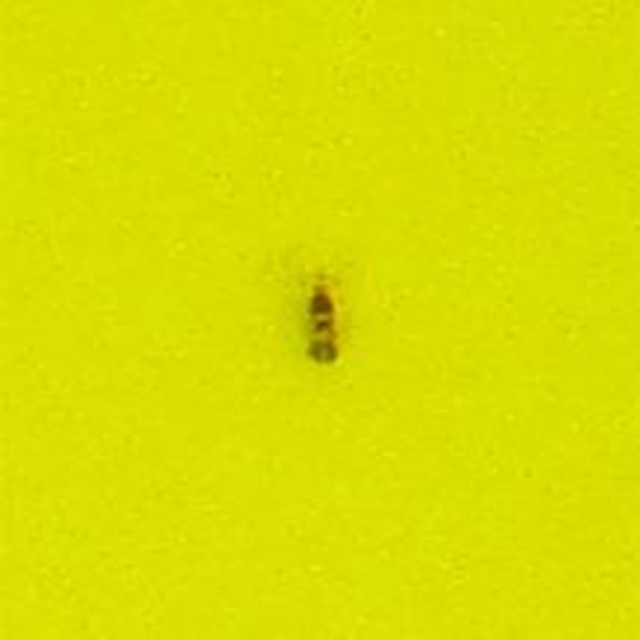Hemiptera: (294, 271, 346, 369)
